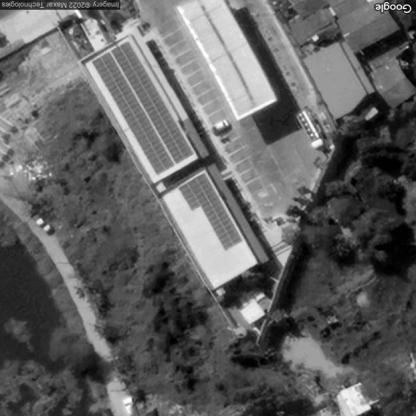solar-pv-panel: (92, 42, 192, 176), (177, 174, 243, 249)
